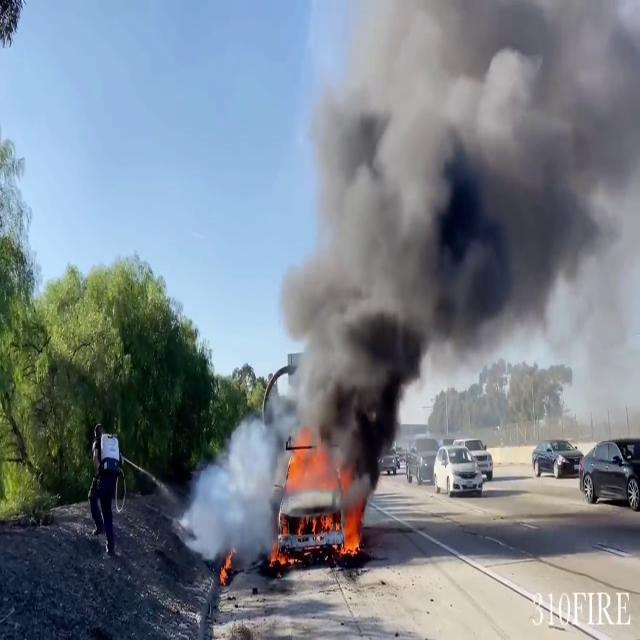Fire: (276, 434, 344, 504)
Smoke: (283, 0, 640, 469), (183, 402, 294, 574)
